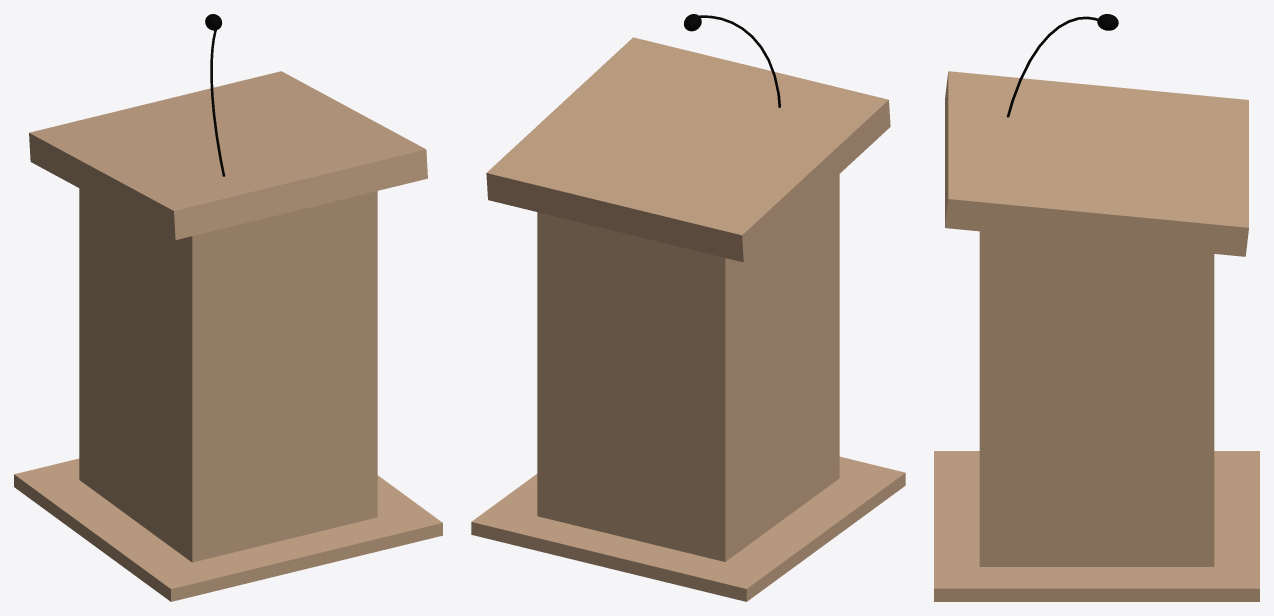
File: podium.fbx
3 renders of one model, left to right at view 1: azimuth 30°, elevation 25°; view 2: azimuth 150°, elevation 25°; view 3: azimuth 270°, elevation 25°, orthographic. The views are drawn at different scales.
Parts seen in each view (by area): view 1: Cube, Cube.001, Cube.002; view 2: Cube, Cube.001, Cube.002; view 3: Cube, Cube.001, Cube.002, BezierCurve.
Boxes of the visible parts, left/top/right/bottom form: Cube: left=79, top=188, right=377, bottom=562; Cube.001: left=29, top=71, right=427, bottom=240; Cube.002: left=14, top=458, right=442, bottom=601; Cube: left=537, top=174, right=839, bottom=561; Cube.001: left=486, top=37, right=890, bottom=262; Cube.002: left=471, top=456, right=905, bottom=601; Cube: left=979, top=231, right=1214, bottom=566; Cube.001: left=945, top=71, right=1248, bottom=256; Cube.002: left=934, top=451, right=1259, bottom=601; BezierCurve: left=1006, top=16, right=1098, bottom=117.
Size of the model in its own units: 240 by 417 by 240.
